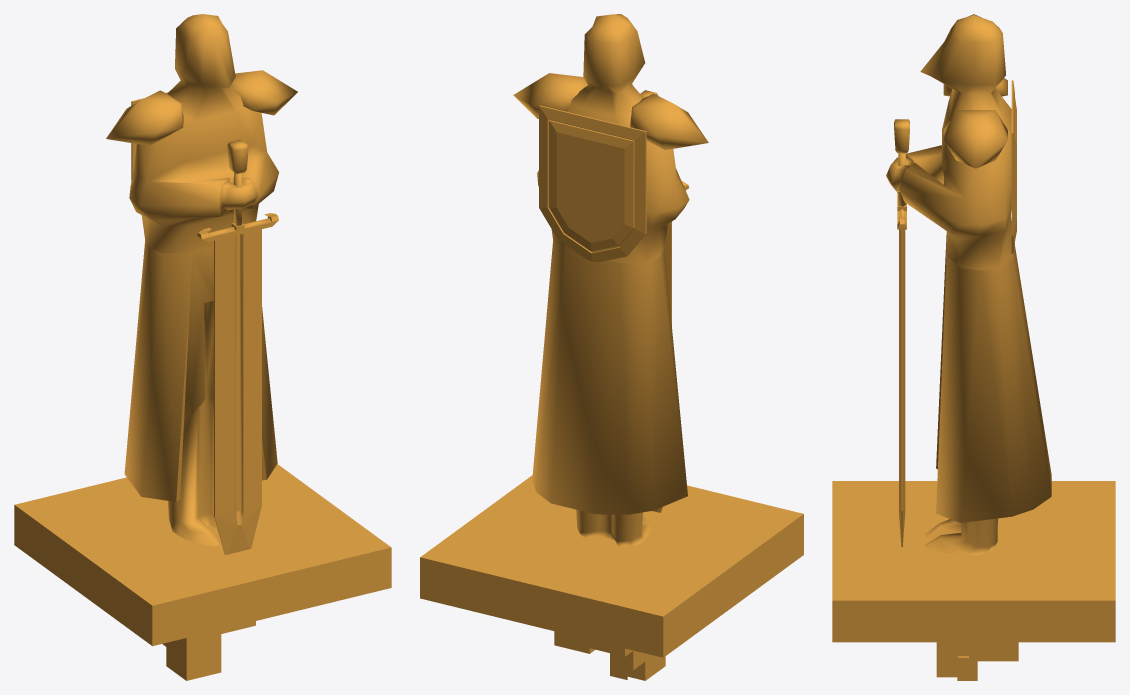
File: Statuette Du Gardien.fbx
3 renders of one model, left to right at view 1: azimuth 30°, elevation 25°; view 2: azimuth 150°, elevation 25°; view 3: azimuth 270°, elevation 25°, orthographic. The views are drawn at different scales.
Visible parts, largest first — view 1: Statuette Du Gardien; view 2: Statuette Du Gardien; view 3: Statuette Du Gardien.
Part boxes in pixels (box(x1,y1,x2,y2)): Statuette Du Gardien: box(14, 14, 391, 680); Statuette Du Gardien: box(420, 14, 803, 680); Statuette Du Gardien: box(832, 14, 1115, 680).
Bounding box in the file's own units: 296 × 768 × 296.
